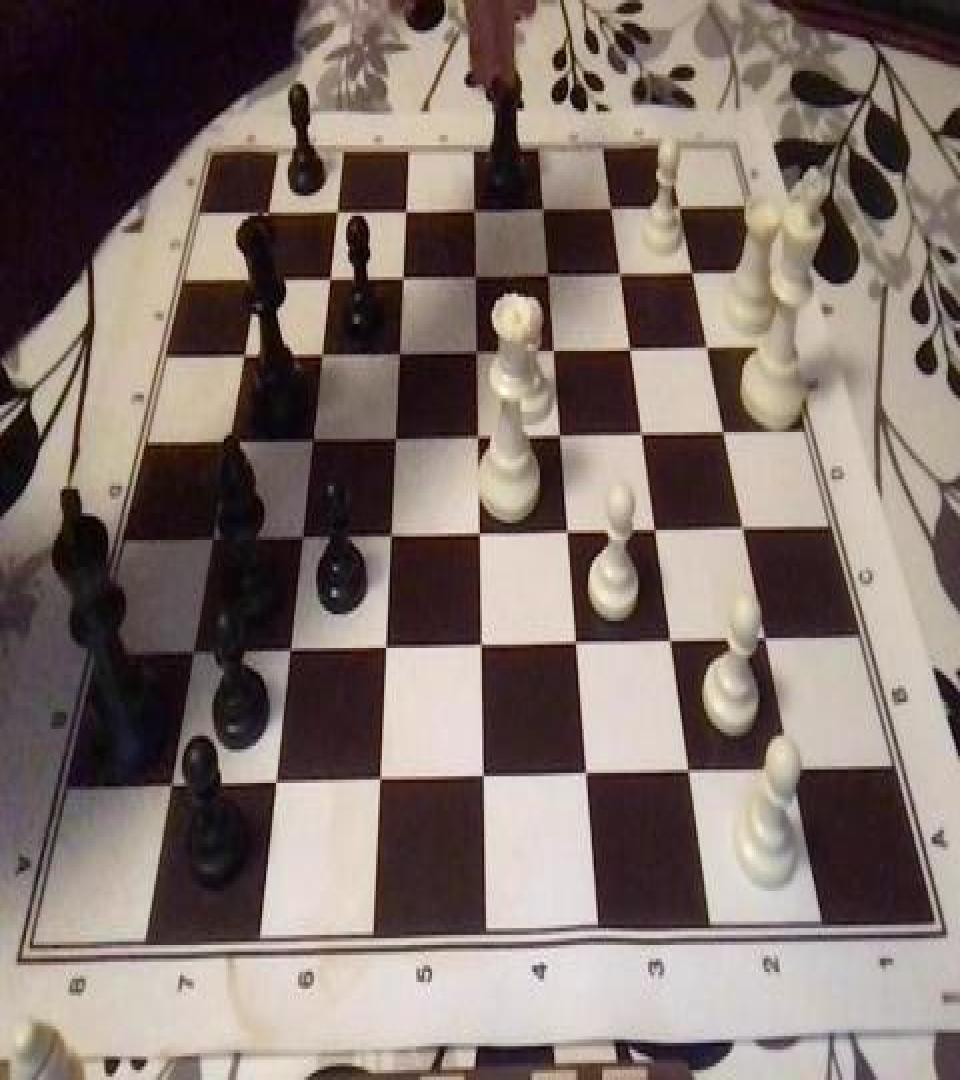xcorner: (159, 768, 185, 812), (263, 764, 289, 808), (368, 762, 394, 806), (472, 760, 498, 804), (576, 758, 602, 802), (679, 754, 705, 798), (782, 752, 808, 796), (181, 633, 207, 677), (277, 631, 303, 675), (374, 630, 400, 674), (470, 626, 496, 670), (565, 624, 591, 668), (661, 622, 687, 666), (756, 621, 782, 665), (200, 518, 226, 562), (289, 516, 315, 560), (379, 514, 405, 558), (468, 513, 494, 557), (556, 511, 582, 555), (645, 510, 671, 554), (733, 508, 759, 552), (216, 420, 242, 464), (300, 418, 326, 462), (383, 417, 409, 461), (466, 415, 492, 459), (549, 414, 575, 458), (631, 412, 657, 456), (714, 410, 740, 454), (230, 332, 256, 376), (309, 330, 335, 374), (387, 330, 413, 374), (464, 329, 490, 373), (542, 328, 568, 372), (619, 326, 645, 370), (697, 324, 723, 368), (243, 256, 269, 300), (317, 255, 343, 299), (390, 255, 416, 299), (463, 253, 489, 297), (536, 252, 562, 296), (609, 252, 635, 296), (682, 250, 708, 294), (254, 189, 280, 233), (324, 187, 350, 231), (393, 187, 419, 231), (462, 186, 488, 230), (531, 186, 557, 230), (600, 184, 626, 228), (668, 182, 694, 226)
